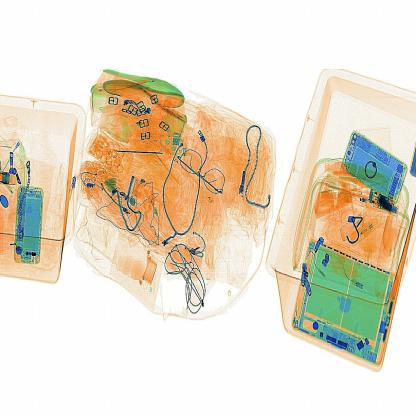wrench: (106, 137, 170, 164)
